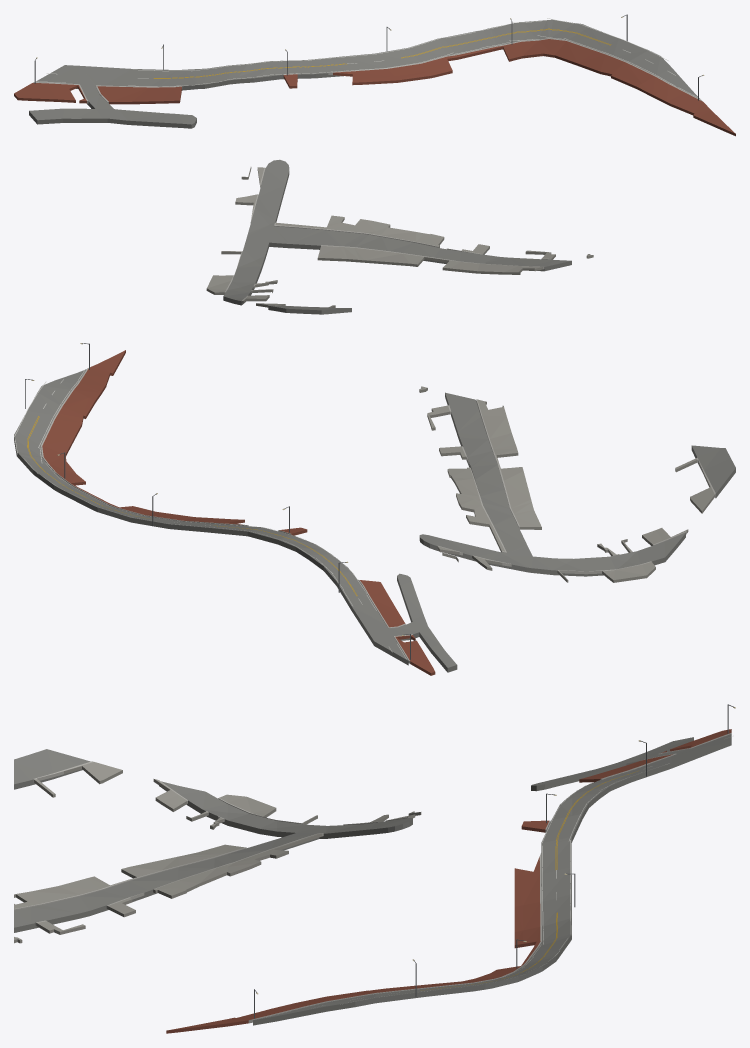
3 renders of one model, top to bottom at view 1: azimuth 30°, elevation 25°; view 2: azimuth 150°, elevation 25°; view 3: azimuth 270°, elevation 25°, orthographic. The views are drawn at different scales.
Size of the model in its own units: 148 by 31.17 by 147.
